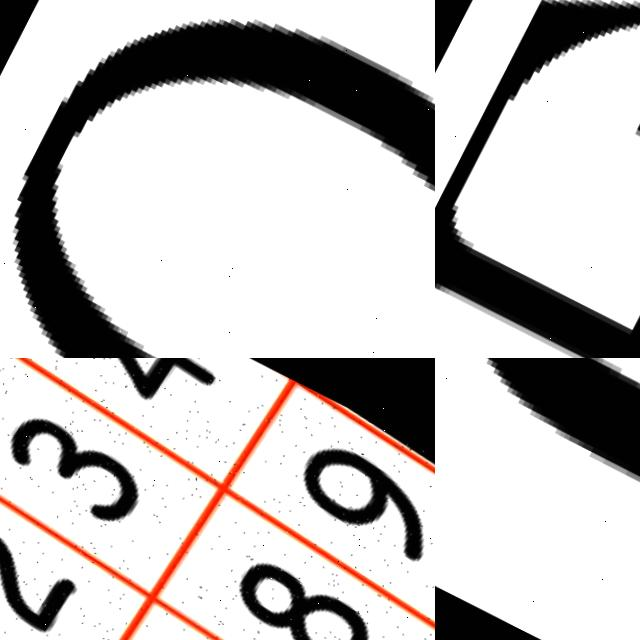0: (435, 358, 640, 603)
2: (0, 502, 89, 640)
3: (0, 397, 160, 534)
4: (53, 358, 231, 430)
8: (218, 543, 388, 640)
9: (282, 427, 435, 568)
O: (15, 16, 435, 358)
